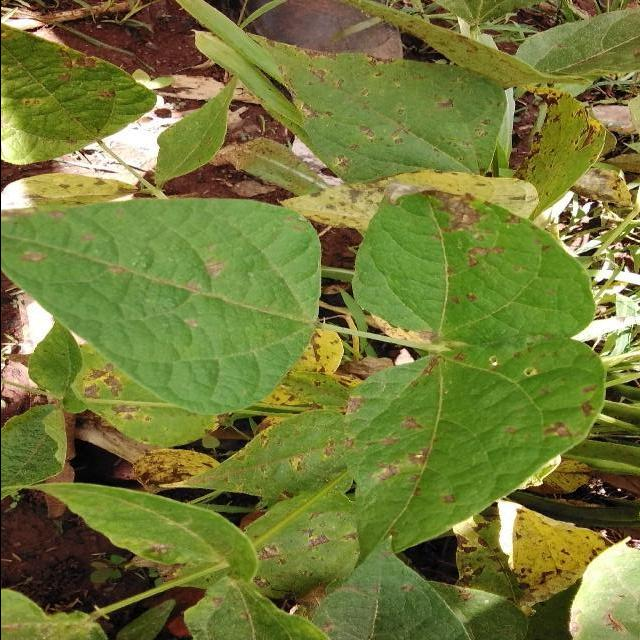embun tepung: (314, 181, 571, 567)
